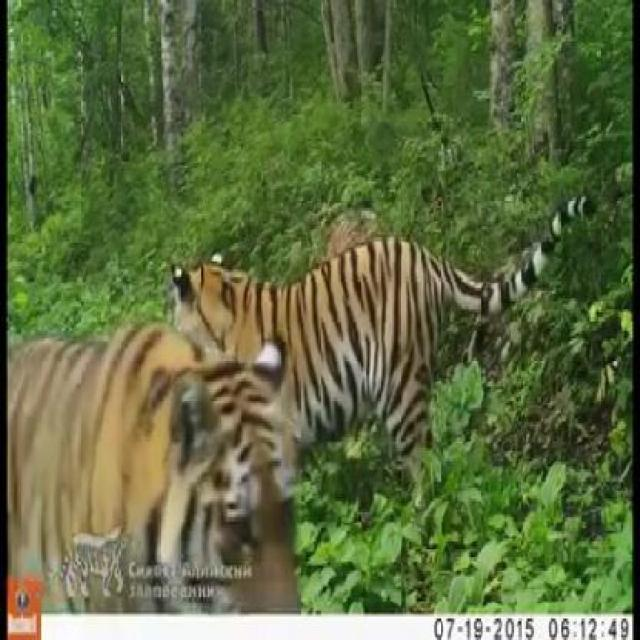tiger: (147, 193, 591, 608), (7, 319, 299, 613)
